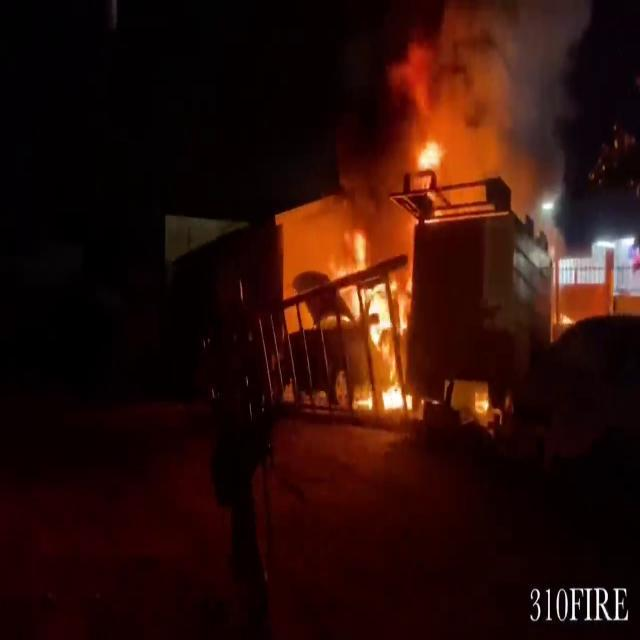Fire: (336, 232, 419, 422)
Smoke: (333, 0, 599, 212)
